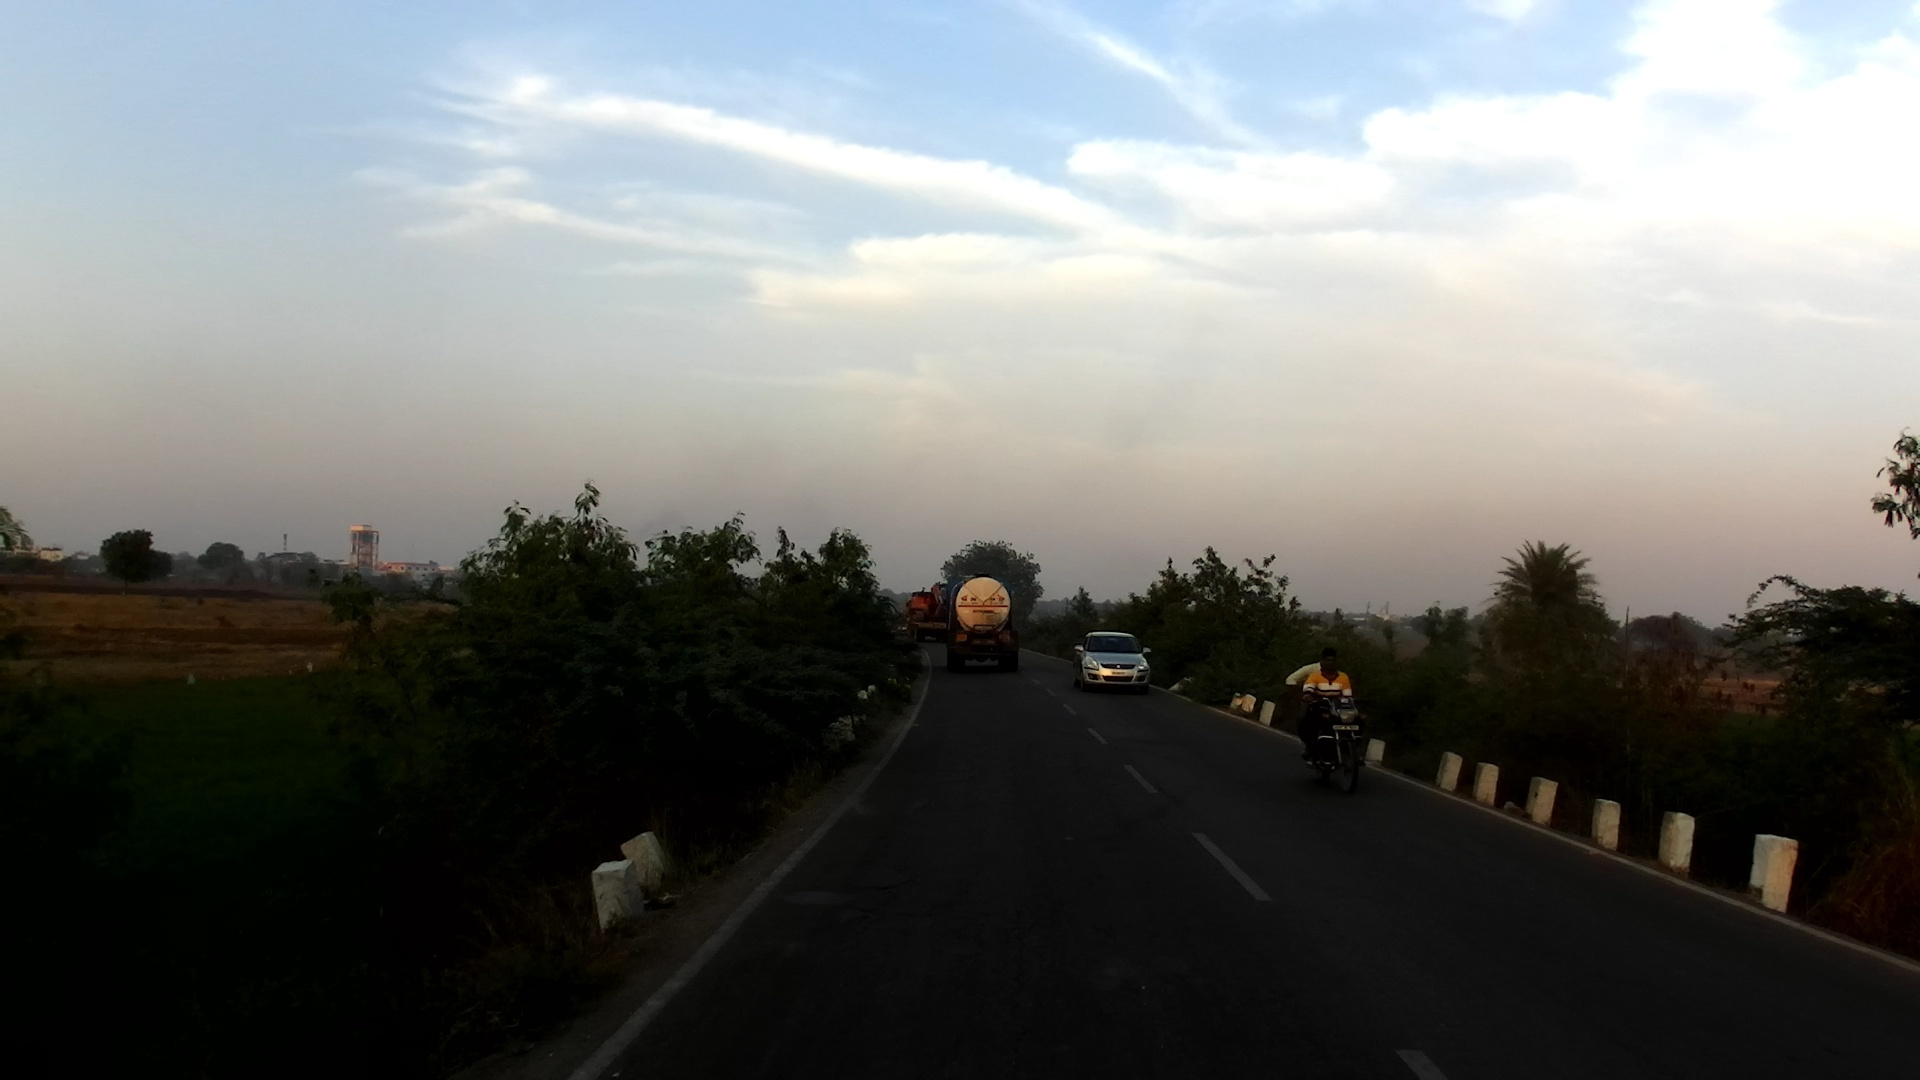car: (1072, 632, 1156, 692)
motorcycle: (1293, 688, 1369, 798)
rider: (1303, 654, 1367, 785), (1285, 652, 1337, 764)
truck: (946, 571, 1023, 674), (903, 583, 953, 651)
